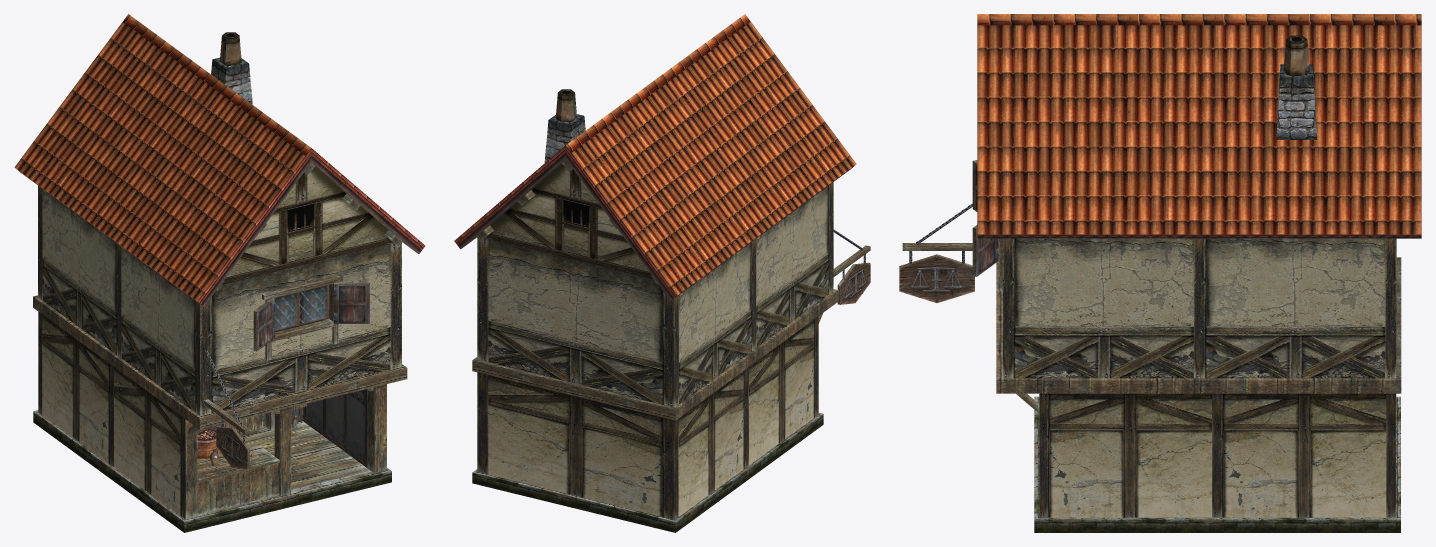
Rendered from MHOUSE5.glb.
The picture shows the model from 3 angles, left to right: view 1: azimuth 30°, elevation 25°; view 2: azimuth 150°, elevation 25°; view 3: azimuth 270°, elevation 25°; orthographic projection. The views are drawn at different scales.
Parts seen in each view (by area): view 1: MHOUSE5; view 2: MHOUSE5; view 3: MHOUSE5.
Boxes of the visible parts, x1,y1,x2,y2 form: MHOUSE5: [14, 14, 425, 532]; MHOUSE5: [454, 14, 870, 532]; MHOUSE5: [899, 14, 1421, 532].
Size of the model in its own units: 6.45 by 10.29 by 10.54.
21 materials, 21 textured.
